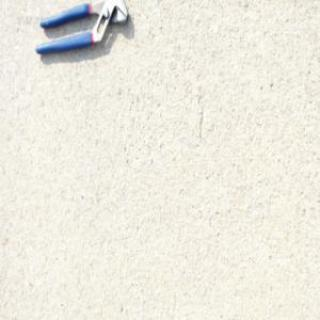Pliertrack_idkeyframe: (33, 0, 128, 57)
